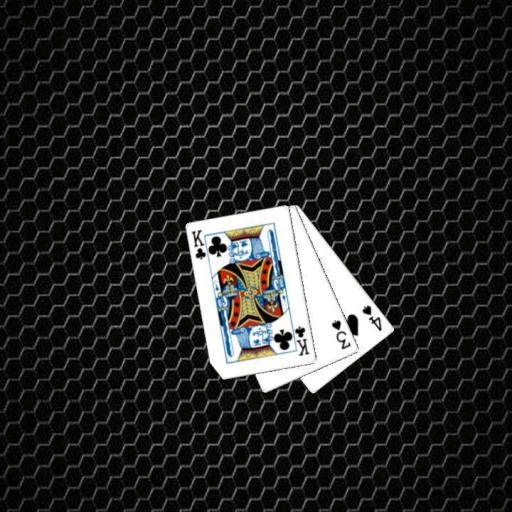3S: (329, 317, 353, 351)
4S: (359, 302, 383, 333)
KC: (288, 321, 311, 358), (189, 227, 212, 263)
